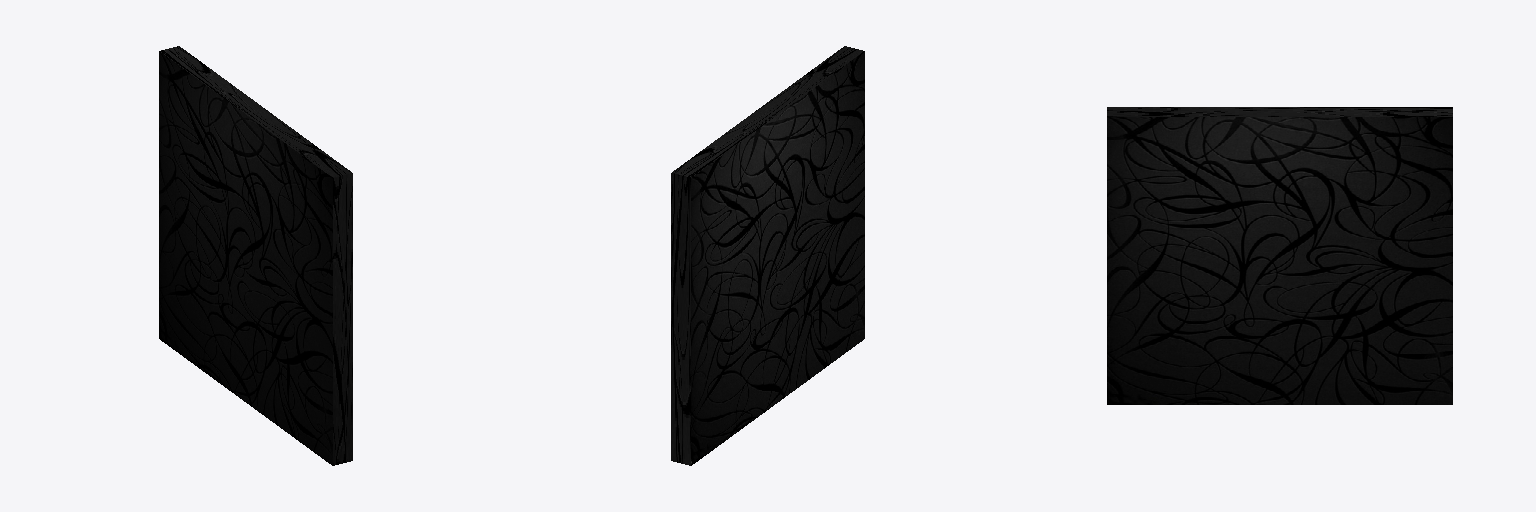
The picture shows the model from 3 angles: view 1: azimuth 30°, elevation 25°; view 2: azimuth 150°, elevation 25°; view 3: azimuth 270°, elevation 25°; orthographic projection.
Parts seen in each view (by area): view 1: pared1CE:pCube31; view 2: pared1CE:pCube31; view 3: pared1CE:pCube31.
Boxes of the visible parts, <box> form: pared1CE:pCube31: <box>159,46,352,465</box>; pared1CE:pCube31: <box>671,46,864,465</box>; pared1CE:pCube31: <box>1107,107,1452,404</box>.
Bounding box in the file's own units: 0.1787 × 2.43 × 2.65.
1 materials, 1 textured.